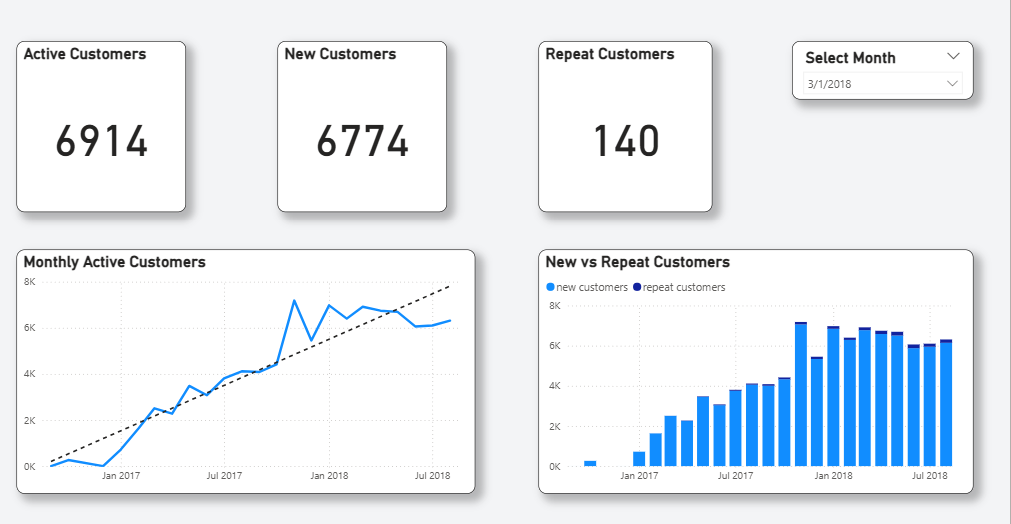

The dashboard page shown, as its layout file describes it:
{"tool":"powerbi","page":{"name":"Overview","canvas":[1280,720],"ordinal":0},"visuals":[{"type":"slicer","title":"Timeframe","fields":{"Values":["monthly_new_repeat_state.order_month"]},"box":[1011.7,125.5,223.4,72],"z":0},{"type":"card","title":"Active Customers","fields":{"Values":["Sum(monthly_new_repeat_state.active_customers)"]},"box":[57.2,125.5,208.6,210.5],"z":1000},{"type":"card","title":"New Customers","fields":{"Values":["Sum(monthly_new_repeat_state.new_customers)"]},"box":[378.5,125.5,208.6,210.5],"z":2000},{"type":"card","title":"Repeat Customers","fields":{"Values":["Sum(monthly_new_repeat_state.repeat_customers)"]},"box":[699.7,125.5,214.2,210.5],"z":3000},{"type":"lineChart","title":"Monthly Active Customers","fields":{"Category":["v_monthly_new_repeat_pct.order_month"],"Y":["Sum(v_monthly_new_repeat_pct.active_customers)"]},"box":[57.2,382.2,564.9,300.9],"z":4000},{"type":"columnChart","title":"New vs Repeat Customers","fields":{"Category":["v_monthly_new_repeat_pct.order_month"],"Y":["Sum(v_monthly_new_repeat_pct.new_customers)","Sum(v_monthly_new_repeat_pct.repeat_customers)"]},"box":[699.7,382.2,535.4,300.9],"z":5000},{"type":"textbox","box":[57.2,0,1222.2,86.8],"z":6000}]}

Visuals, with their boxes on the page's 1280x720 design canvas (x1, y1, x2, y2). These are canvas units, not pixel positions in the 1011x524 screenshot, which may show the page scaled, cropped or inside an application window:
"Timeframe" slicer: l=1012, t=126, r=1235, b=198
"Active Customers" card: l=57, t=126, r=266, b=336
"New Customers" card: l=378, t=126, r=587, b=336
"Repeat Customers" card: l=700, t=126, r=914, b=336
"Monthly Active Customers" lineChart: l=57, t=382, r=622, b=683
"New vs Repeat Customers" columnChart: l=700, t=382, r=1235, b=683
textbox: l=57, t=0, r=1279, b=87
